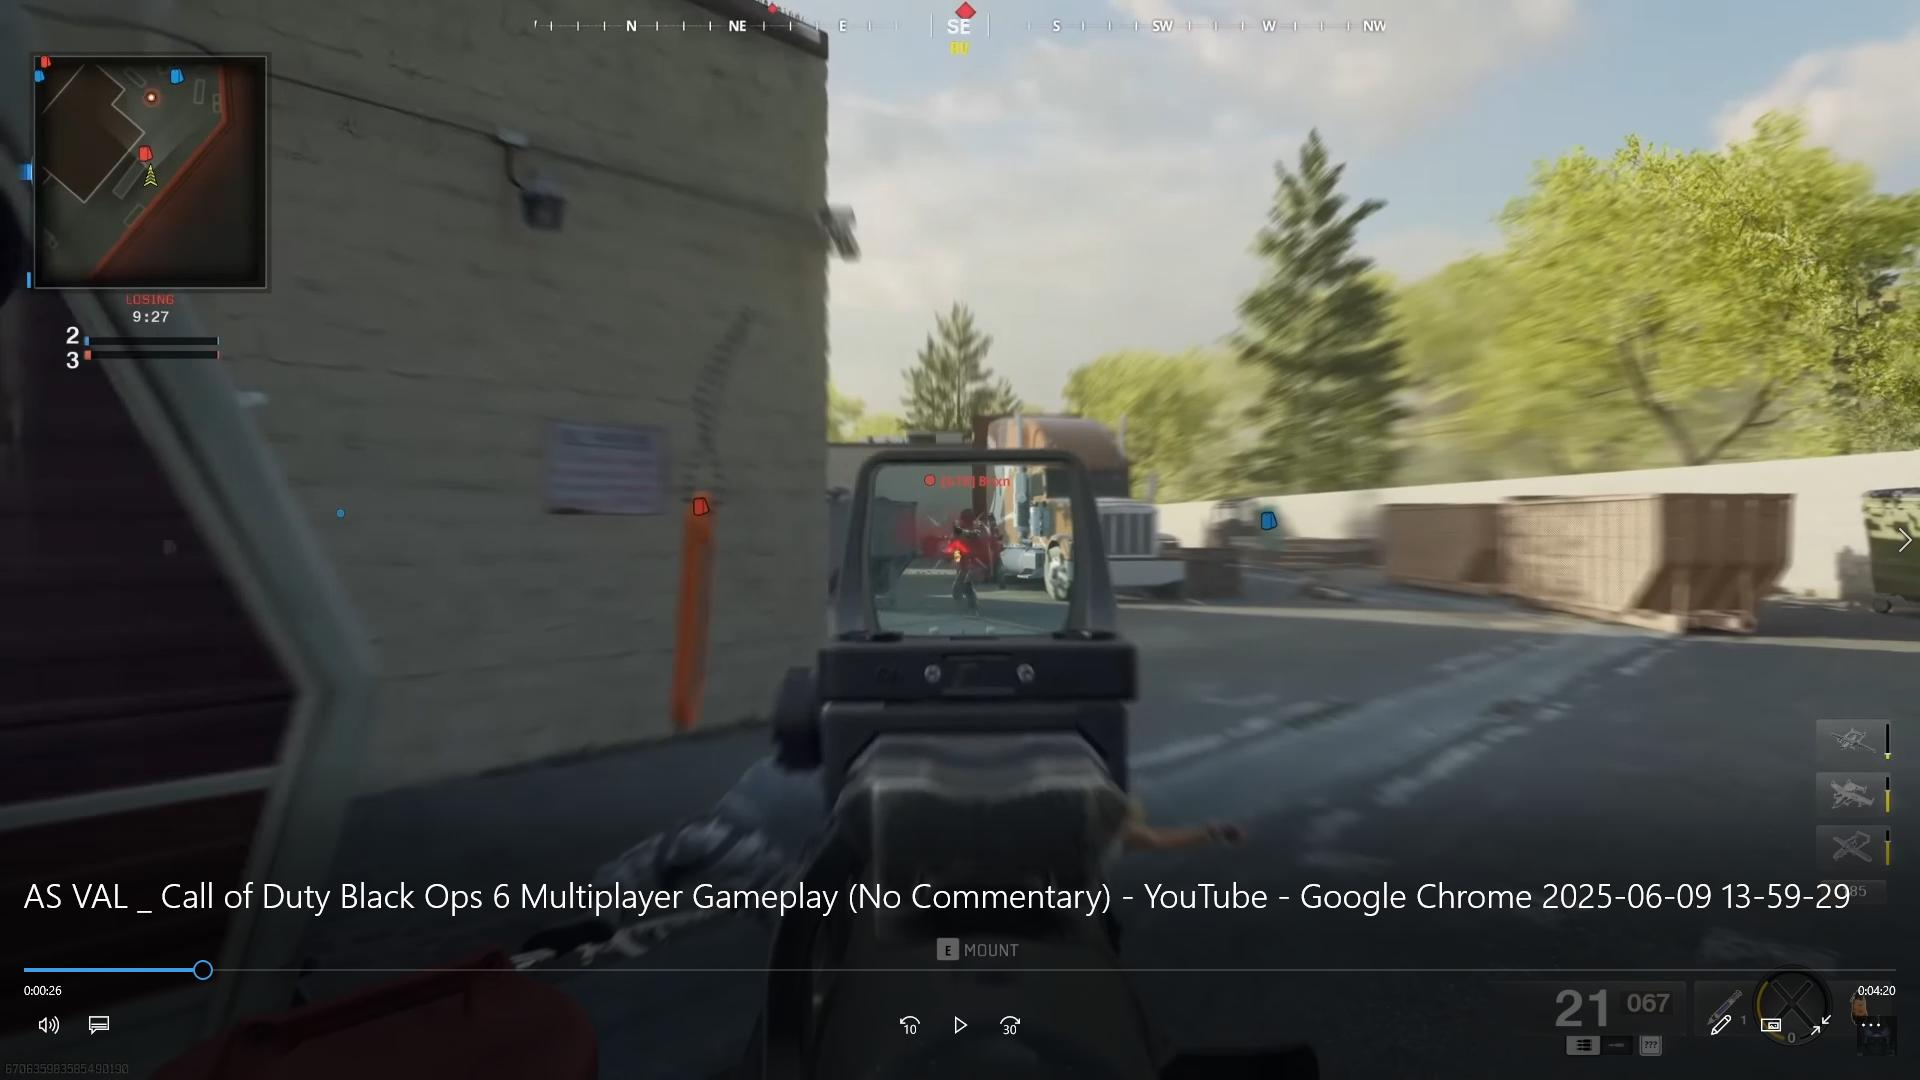Enemy: (938, 498, 990, 613)
